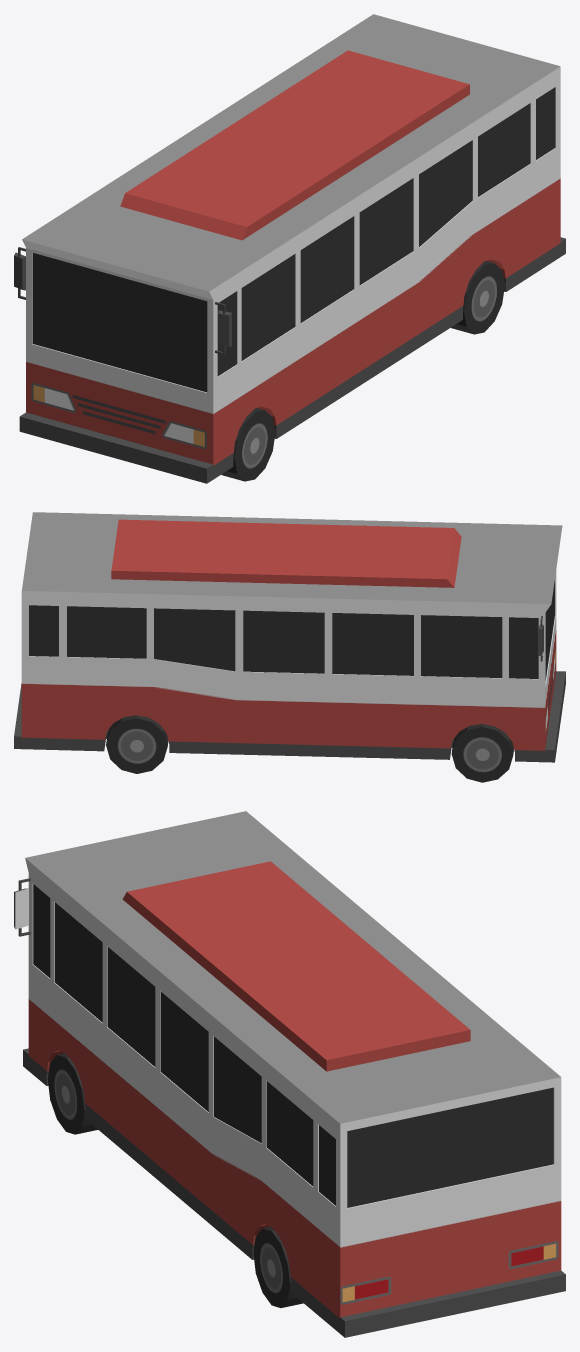
The model's file is Car2_Bus3.glb.
The picture shows the model from 3 angles, top to bottom: view 1: azimuth 30°, elevation 25°; view 2: azimuth 150°, elevation 25°; view 3: azimuth 270°, elevation 25°; orthographic projection. The views are drawn at different scales.
Visible parts, largest first — view 1: Vehicle_Bus_color03.002; view 2: Vehicle_Bus_color03.002; view 3: Vehicle_Bus_color03.002.
Part boxes in pixels (x1=…): Vehicle_Bus_color03.002: x1=14, y1=14, x2=565, y2=483; Vehicle_Bus_color03.002: x1=14, y1=512, x2=565, y2=782; Vehicle_Bus_color03.002: x1=14, y1=811, x2=565, y2=1337.
Bounding box in the file's own units: 2.44 × 0.8946 × 1.79.
1 material, 1 textured.
